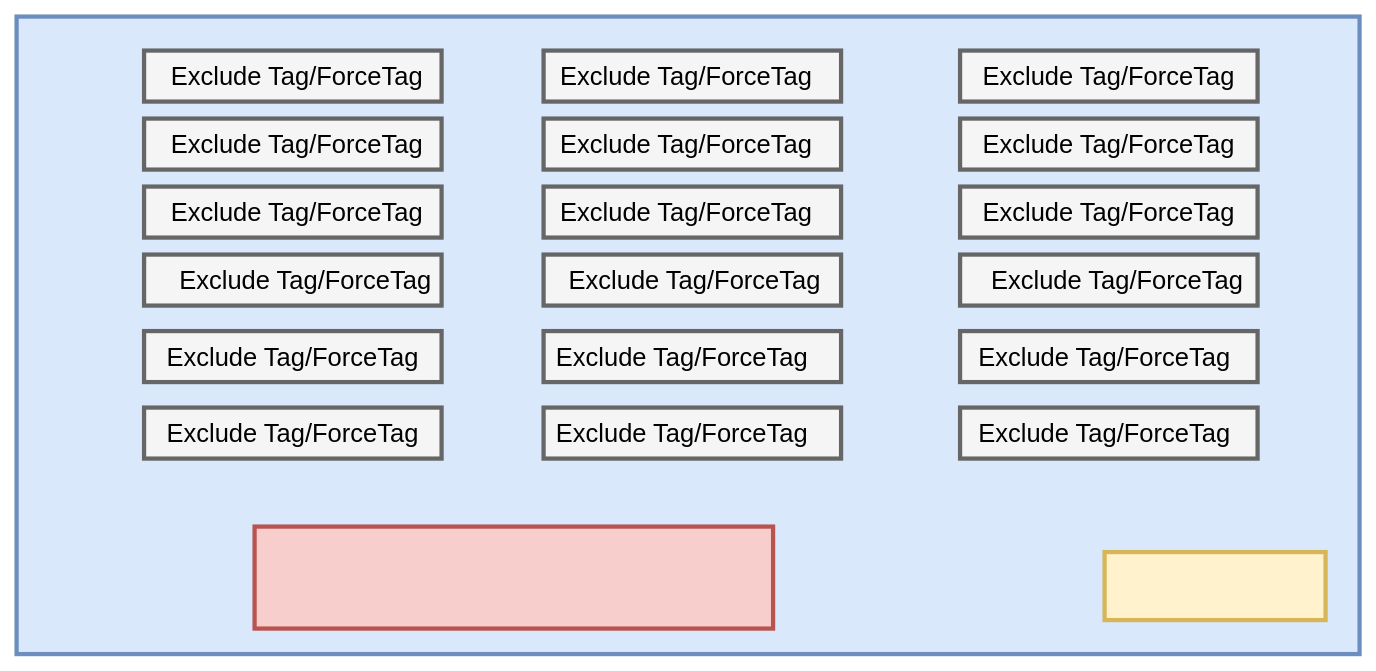
Image size: 1376x671. Some labels were removed from this diagram. Each missing label, with the box of its shape:
Search: (1102, 550, 1327, 622)
Sort By _Drop-Down_ ASC/DESC: (252, 524, 775, 630)
